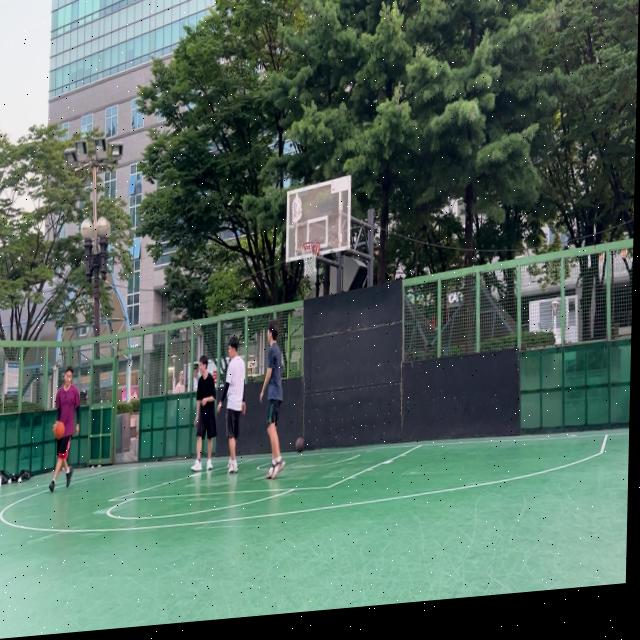basketball: (53, 420, 65, 439), (295, 435, 305, 453)
hoop: (300, 241, 320, 279)
